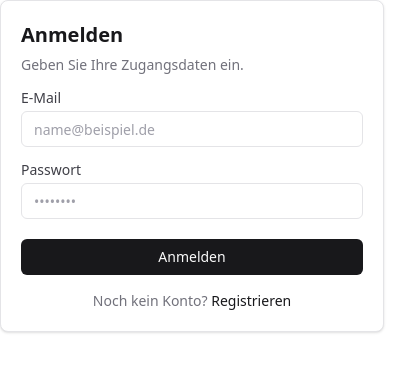
Test case: LoginForm (Integration) › zeigt Validierungsfehler bei zu kurzem Passwort
Type "test@example.com" into the field labelled "E-Mail". click: (192, 129)
box: [21,111,363,147]
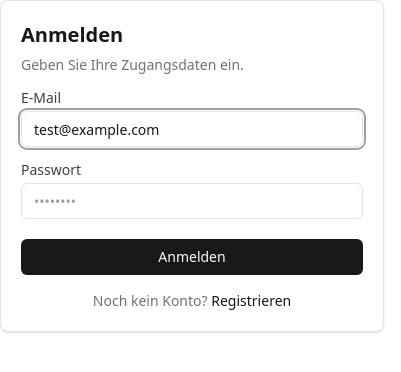
Type "kurz" into the password field labelled "Passwort". click: (192, 201)
box: [21,183,363,219]
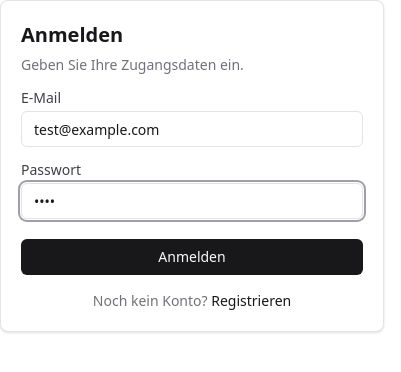
Click the button "Anmelden". click: (192, 257)
box: [21,239,363,275]
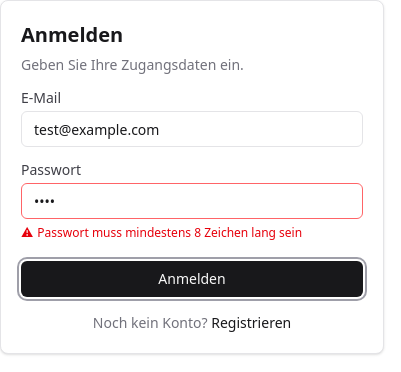
Result: the text "⚠ Passwort muss mindestens 8 Zeichen lang sein" is shown at [21,224,302,241]
